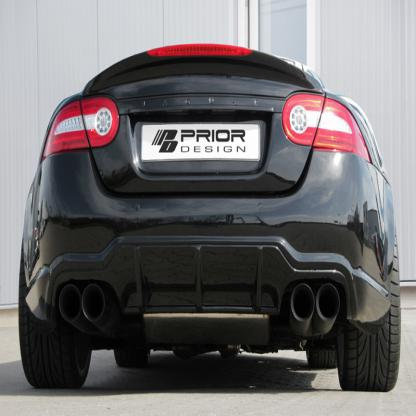Vehicle: (19, 43, 403, 395)
